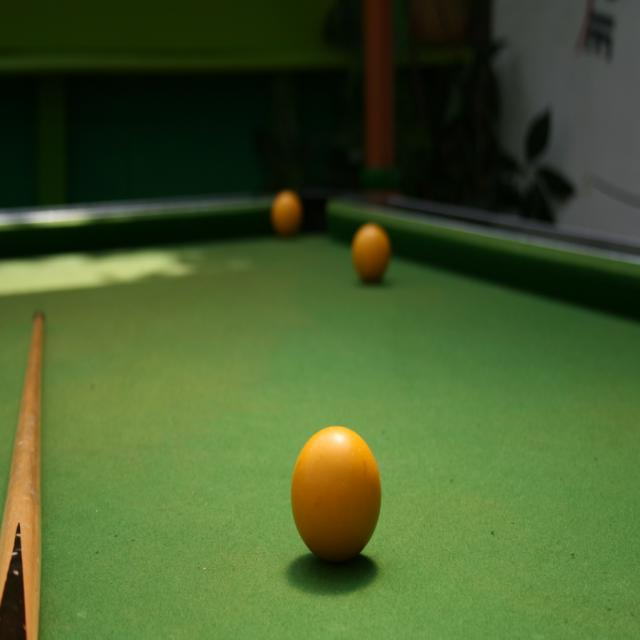Ball: (290, 424, 382, 566), (350, 226, 390, 284), (275, 192, 301, 232)
Billiard table: (0, 193, 639, 639)
